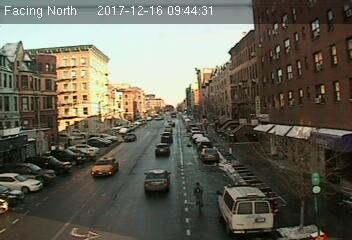bicycle: (193, 181, 204, 214)
car: (143, 170, 171, 195), (92, 156, 118, 177), (200, 149, 220, 164), (154, 143, 170, 157), (160, 131, 173, 144)
police: (217, 182, 274, 237)
